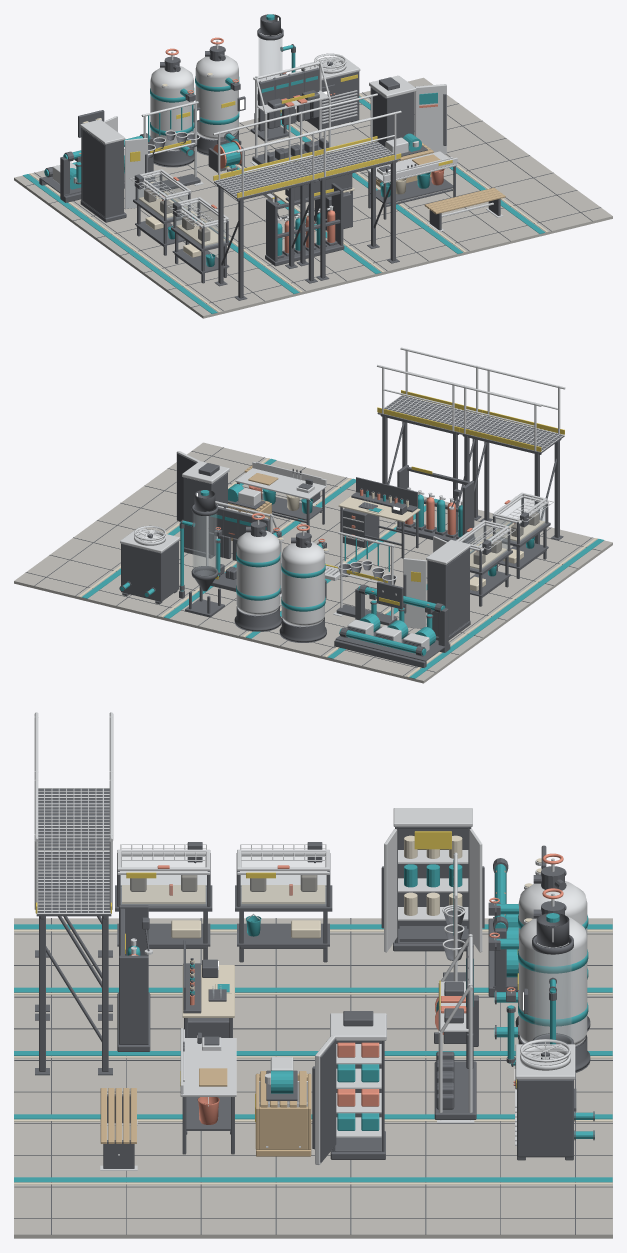
File: public-aquarium-and-marine-centre-plant-room-and-quara-8a227a50__34193.glb
3 renders of one model, top to bottom at view 1: azimuth 30°, elevation 25°; view 2: azimuth 150°, elevation 25°; view 3: azimuth 270°, elevation 25°, orthographic. The views are drawn at different scales.
Parts seen in each view (by area): view 1: 038-service-catwalk-section/0, 039-service-catwalk-section/0, 019-visitor-floor-tile/0, 003-visitor-floor-tile/0, 030-chemical-store-cabinet-open/0, 015-visitor-floor-tile/0, 018-visitor-floor-tile/0, 011-visitor-floor-tile/0, 032-wetsuit-and-gear-rack/1, 022-filtration-tower/1, 007-visitor-floor-tile/0, 038-service-catwalk-section/1 (+49 smaller); view 2: 016-visitor-floor-tile/0, 038-service-catwalk-section/0, 020-life-support-pump-skid/0, 039-service-catwalk-section/0, 021-filtration-tower/1, 022-filtration-tower/1, 027-water-test-bench/0, 024-chiller-unit/0, 030-chemical-store-cabinet-open/0, 038-service-catwalk-section/1, 039-service-catwalk-section/1, 017-visitor-floor-tile/0 (+49 smaller); view 3: 017-visitor-floor-tile/0, 018-visitor-floor-tile/0, 016-visitor-floor-tile/0, 019-visitor-floor-tile/0, 011-visitor-floor-tile/0, 039-service-catwalk-section/0, 015-visitor-floor-tile/0, 012-visitor-floor-tile/0, 006-visitor-floor-tile/0, 001-visitor-floor-tile/0, 022-filtration-tower/1, 007-visitor-floor-tile/0 (+61 smaller).
Boxes of the visible parts, x1,y1,x2,y2 form: 038-service-catwalk-section/0: (214, 162, 318, 300); 039-service-catwalk-section/0: (296, 142, 400, 280); 019-visitor-floor-tile/0: (485, 181, 612, 238); 003-visitor-floor-tile/0: (156, 261, 285, 318); 030-chemical-store-cabinet-open/0: (80, 127, 126, 222); 015-visitor-floor-tile/0: (402, 202, 530, 258); 018-visitor-floor-tile/0: (444, 147, 565, 195); 011-visitor-floor-tile/0: (326, 221, 448, 278); 032-wetsuit-and-gear-rack/1: (252, 67, 331, 168); 022-filtration-tower/1: (195, 40, 238, 139); 007-visitor-floor-tile/0: (243, 242, 366, 298); 038-service-catwalk-section/1: (213, 113, 319, 198); 016-visitor-floor-tile/0: (14, 546, 120, 603); 038-service-catwalk-section/0: (459, 416, 564, 544); 020-life-support-pump-skid/0: (334, 581, 450, 667); 039-service-catwalk-section/0: (377, 396, 482, 532); 021-filtration-tower/1: (281, 527, 328, 626); 022-filtration-tower/1: (236, 516, 283, 615); 027-water-test-bench/0: (340, 477, 418, 558); 024-chiller-unit/0: (119, 540, 178, 604); 030-chemical-store-cabinet-open/0: (427, 548, 470, 640); 038-service-catwalk-section/1: (458, 367, 565, 452); 039-service-catwalk-section/1: (377, 347, 482, 432); 017-visitor-floor-tile/0: (61, 512, 180, 560); 017-visitor-floor-tile/0: (313, 1171, 463, 1238); 018-visitor-floor-tile/0: (163, 1171, 313, 1238); 016-visitor-floor-tile/0: (463, 1171, 612, 1238); 019-visitor-floor-tile/0: (14, 1171, 163, 1238); 011-visitor-floor-tile/0: (14, 1045, 163, 1107); 039-service-catwalk-section/0: (35, 852, 112, 1075); 015-visitor-floor-tile/0: (14, 1108, 163, 1171); 012-visitor-floor-tile/0: (463, 1108, 612, 1171); 006-visitor-floor-tile/0: (163, 981, 313, 1044); 001-visitor-floor-tile/0: (313, 918, 463, 981); 022-filtration-tower/1: (493, 893, 587, 1046); 007-visitor-floor-tile/0: (14, 981, 163, 1044).
Bounding box in the file's own units: 10 × 3.56 × 8.
